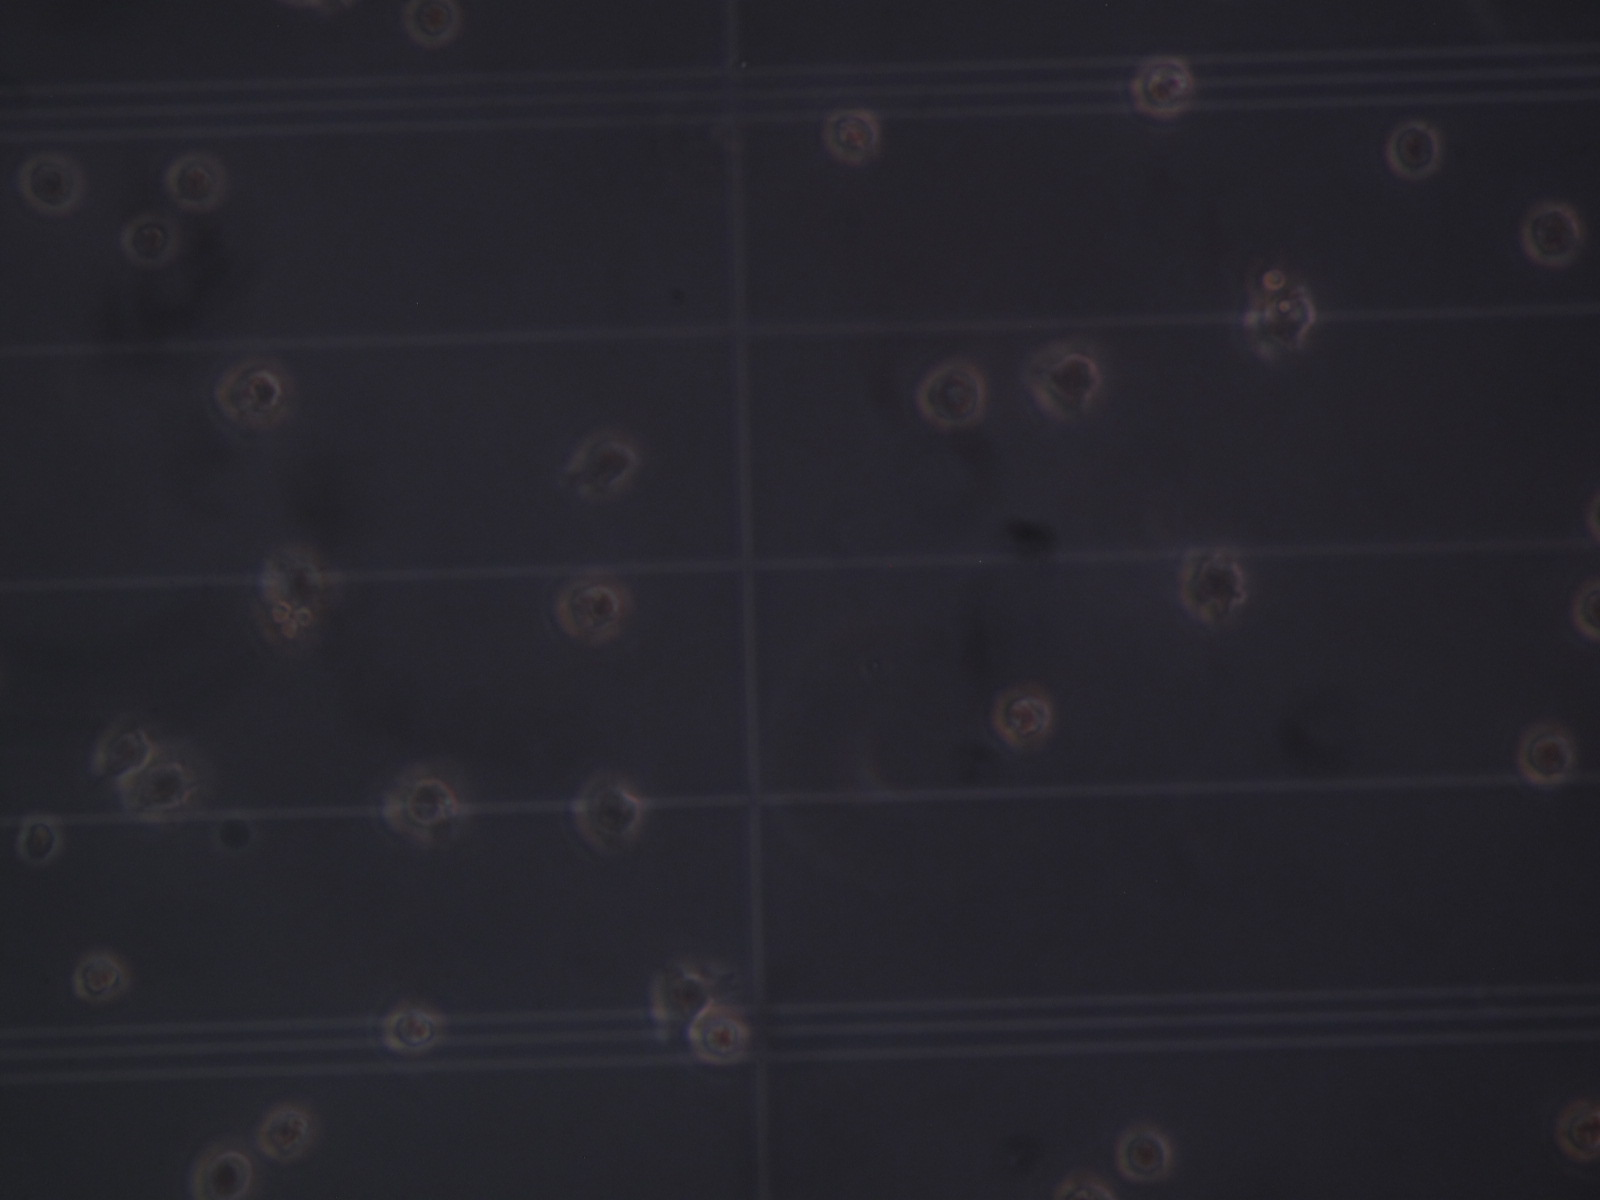hemo: (382, 763, 459, 847), (1024, 343, 1099, 422), (1178, 553, 1246, 623), (918, 361, 986, 429), (1243, 292, 1315, 357), (214, 359, 280, 429), (573, 782, 641, 847), (558, 581, 627, 645), (1521, 200, 1584, 270), (1514, 716, 1572, 790), (568, 436, 637, 497), (91, 713, 152, 778), (21, 155, 87, 216), (123, 764, 189, 821), (186, 1146, 252, 1200), (1133, 57, 1191, 117), (821, 107, 882, 164), (1387, 120, 1441, 182), (166, 158, 228, 212), (991, 686, 1049, 742), (1116, 1128, 1174, 1184), (118, 217, 179, 268), (382, 1006, 445, 1053), (692, 1011, 747, 1064), (258, 1105, 310, 1161), (74, 957, 129, 1005), (402, 1, 459, 47), (13, 816, 60, 863), (1574, 580, 1600, 643)
